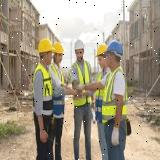Helmet: (104, 40, 124, 55), (37, 38, 56, 52), (94, 44, 109, 56), (52, 41, 65, 54), (74, 39, 85, 50)
Vest: (101, 66, 128, 125), (33, 62, 53, 112), (95, 68, 112, 124), (72, 61, 92, 106), (50, 63, 64, 116)
